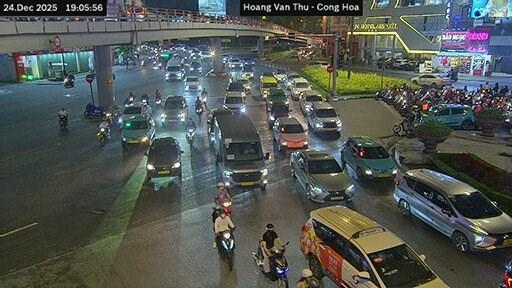motorbike: (268, 247, 288, 287), (217, 229, 233, 270), (252, 238, 263, 270), (498, 261, 511, 287), (83, 103, 105, 116), (96, 127, 108, 145), (217, 199, 230, 215), (58, 115, 67, 129), (186, 129, 194, 144), (124, 95, 134, 106), (195, 106, 202, 121), (201, 90, 207, 106), (64, 76, 73, 86), (140, 94, 147, 103), (154, 98, 160, 108), (284, 241, 288, 246)
